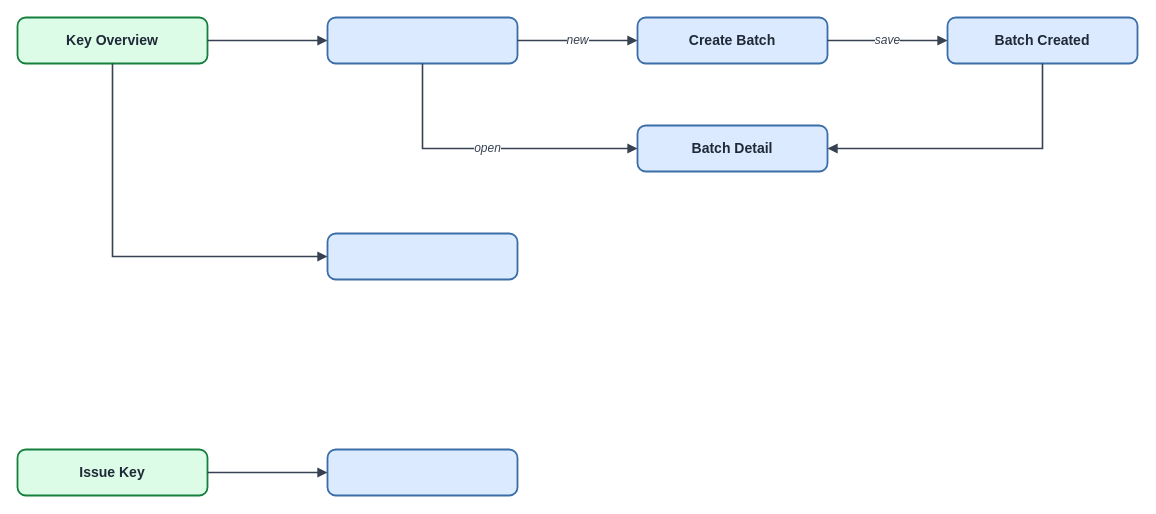
The diagram is 1156 pixels wide and 514 high, and some of its shapes have lost their labels. Each missing label, with the box of its shape:
Issue Key Directly: (326, 232, 518, 280)
Issued Keys: (326, 448, 518, 496)
Key Batches: (326, 16, 518, 64)
